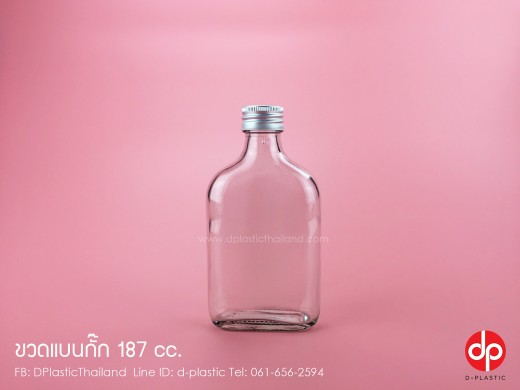glass_bottle: (203, 103, 327, 336)
